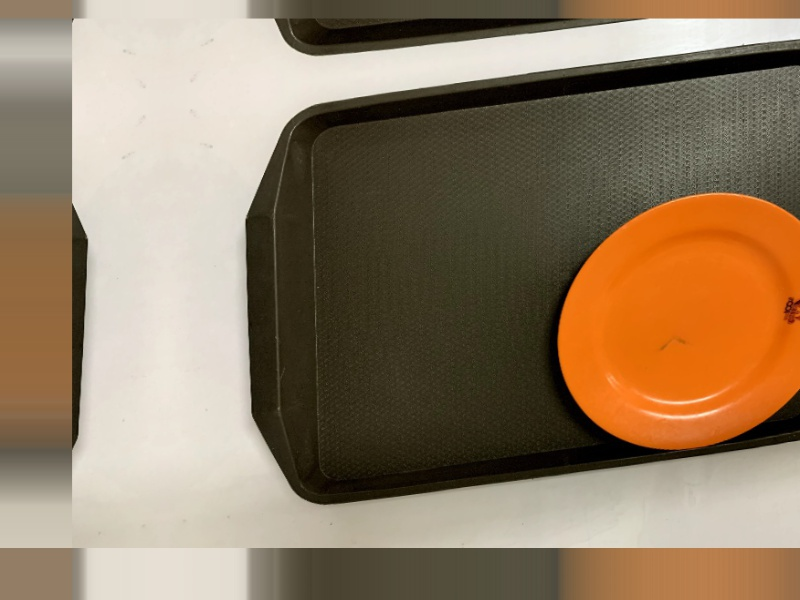dish10: (550, 174, 799, 470)
